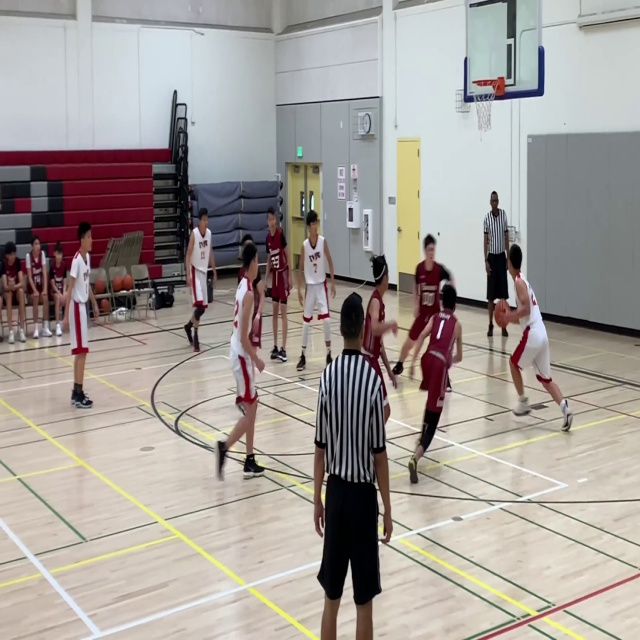Basketball: (494, 299, 511, 328), (122, 274, 133, 291), (93, 279, 105, 294), (113, 275, 123, 292), (100, 299, 110, 312)
